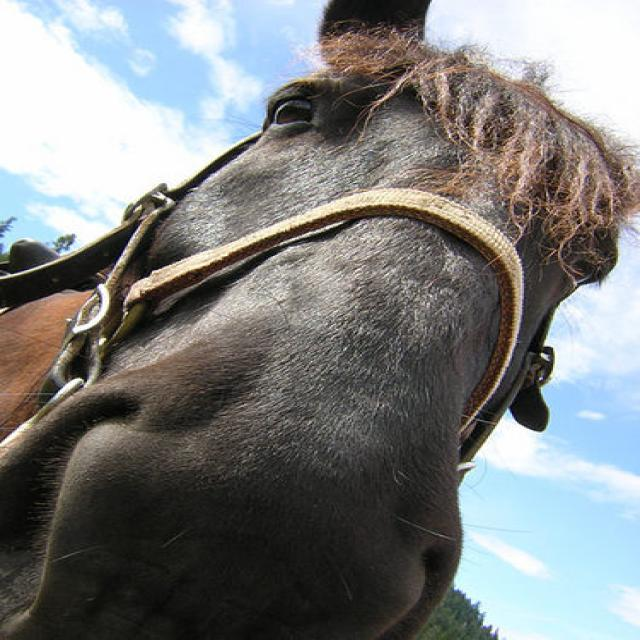horse: (1, 1, 639, 639)
